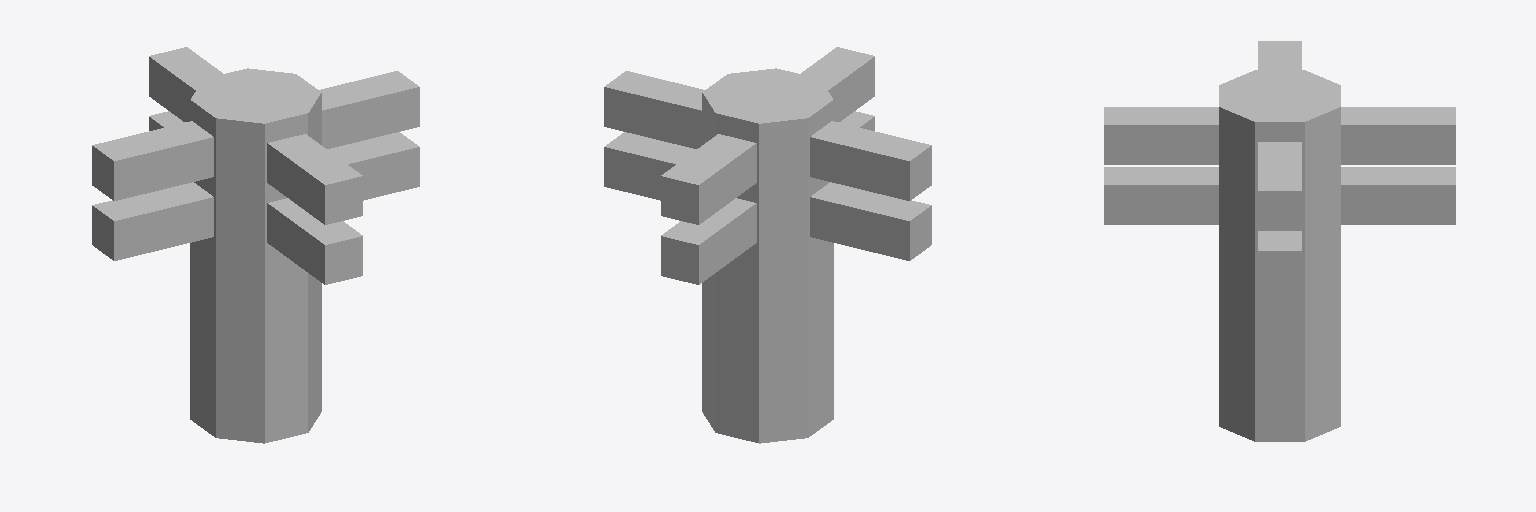
Rendered from brick.obj.
3 renders of one model, left to right at view 1: azimuth 30°, elevation 25°; view 2: azimuth 150°, elevation 25°; view 3: azimuth 270°, elevation 25°, orthographic.
Visible parts, largest first — view 1: fancy_fence:post group, group fancy_fence:west, group fancy_fence:south, group fancy_fence:east, group fancy_fence:north; view 2: fancy_fence:post group, group fancy_fence:west, group fancy_fence:north, group fancy_fence:east, group fancy_fence:south; view 3: fancy_fence:post group, group fancy_fence:north, group fancy_fence:south, group fancy_fence:east, group fancy_fence:west.
Boxes of the visible parts, <box> form: fancy_fence:post group: <box>190,68,321,443</box>; group fancy_fence:west: <box>92,121,213,260</box>; group fancy_fence:south: <box>267,134,362,284</box>; group fancy_fence:east: <box>319,71,419,200</box>; group fancy_fence:north: <box>149,47,222,130</box>; fancy_fence:post group: <box>702,68,833,443</box>; group fancy_fence:west: <box>810,121,931,260</box>; group fancy_fence:north: <box>661,134,756,284</box>; group fancy_fence:east: <box>604,71,704,200</box>; group fancy_fence:south: <box>801,47,874,130</box>; fancy_fence:post group: <box>1219,70,1340,441</box>; group fancy_fence:north: <box>1341,107,1455,224</box>; group fancy_fence:south: <box>1104,107,1218,224</box>; group fancy_fence:east: <box>1258,142,1301,290</box>; group fancy_fence:west: <box>1258,41,1301,69</box>.
Bounding box in the file's own units: 1 × 1 × 1.